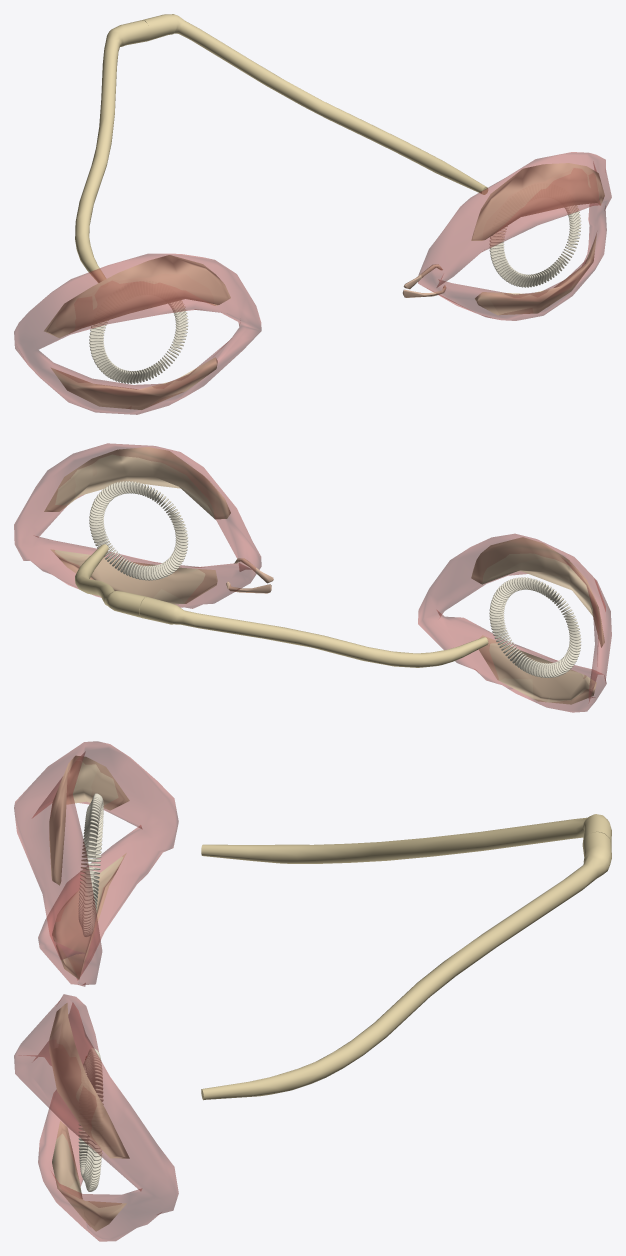
Rendered from zanatomy-eyedetail.glb.
3 renders of one model, top to bottom at view 1: azimuth 30°, elevation 25°; view 2: azimuth 150°, elevation 25°; view 3: azimuth 270°, elevation 25°, orthographic. The views are drawn at different scales.
Visible parts, largest first — view 1: za_orbicularis_palp_r, za_orbicularis_palp_l, za_tarsus_sup_r, za_optic_nerve_l, za_tarsus_sup_l, za_optic_nerve_r, za_tarsus_inf_r, za_zonule_r, za_tarsus_inf_l, za_zonule_l; view 2: za_orbicularis_palp_l, za_orbicularis_palp_r, za_tarsus_sup_l, za_optic_nerve_r, za_tarsus_sup_r, za_tarsus_inf_l, za_zonule_l, za_zonule_r, za_tarsus_inf_r, za_optic_nerve_l, za_lcanal_l; view 3: za_orbicularis_palp_r, za_orbicularis_palp_l, za_optic_nerve_l, za_optic_nerve_r, za_tarsus_sup_l, za_tarsus_sup_r, za_tarsus_inf_l, za_tarsus_inf_r, za_zonule_r, za_zonule_l.
Part boxes in pixels (x1,y1,x2,y2): za_orbicularis_palp_r: [14, 253, 261, 414]; za_orbicularis_palp_l: [418, 152, 611, 320]; za_tarsus_sup_r: [44, 255, 230, 337]; za_optic_nerve_l: [143, 14, 488, 194]; za_tarsus_sup_l: [471, 163, 604, 240]; za_optic_nerve_r: [75, 20, 150, 282]; za_tarsus_inf_r: [51, 357, 217, 409]; za_zonule_r: [89, 300, 188, 383]; za_tarsus_inf_l: [475, 235, 596, 315]; za_zonule_l: [489, 205, 581, 287]; za_orbicularis_palp_l: [14, 443, 261, 608]; za_orbicularis_palp_r: [418, 533, 611, 712]; za_tarsus_sup_l: [44, 447, 230, 519]; za_optic_nerve_r: [139, 597, 488, 667]; za_tarsus_sup_r: [471, 537, 604, 647]; za_tarsus_inf_l: [50, 549, 217, 604]; za_zonule_l: [89, 481, 188, 580]; za_zonule_r: [489, 577, 581, 677]; za_tarsus_inf_r: [478, 635, 596, 704]; za_optic_nerve_l: [75, 544, 147, 617]; za_lcanal_l: [226, 558, 273, 593]; za_orbicularis_palp_r: [14, 741, 178, 986]; za_orbicularis_palp_l: [14, 994, 178, 1241]; za_optic_nerve_l: [201, 831, 611, 1100]; za_optic_nerve_r: [201, 814, 611, 863]; za_tarsus_sup_l: [49, 1003, 129, 1158]; za_tarsus_sup_r: [49, 755, 129, 885]; za_tarsus_inf_l: [52, 1121, 126, 1231]; za_tarsus_inf_r: [52, 853, 126, 979]; za_zonule_r: [78, 793, 103, 936]; za_zonule_l: [78, 1048, 103, 1191].
Bounding box in the file's own units: 0.0928 × 0.0303 × 0.0619.
